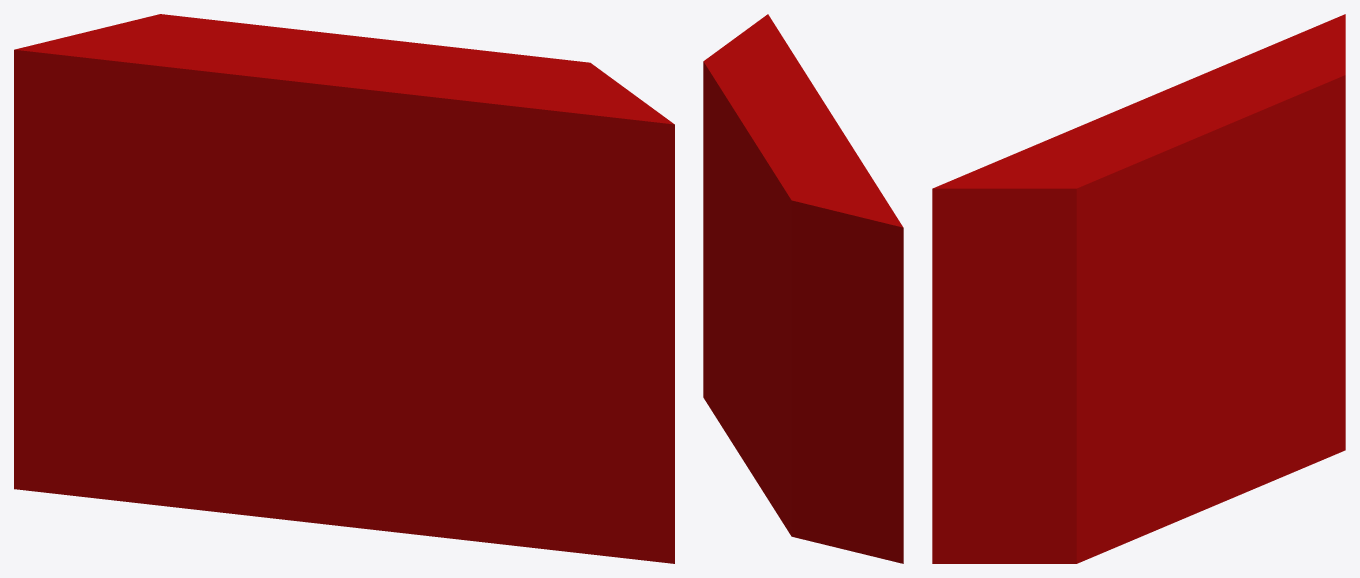
The model's file is UCX_tunnelAngleD.fbx.
The picture shows the model from 3 angles, left to right: view 1: azimuth 30°, elevation 25°; view 2: azimuth 150°, elevation 25°; view 3: azimuth 270°, elevation 25°; orthographic projection. The views are drawn at different scales.
Visible parts, largest first — view 1: UCX_tunnelAngleD; view 2: UCX_tunnelAngleD; view 3: UCX_tunnelAngleD.
Part boxes in pixels (bbox=[...]): UCX_tunnelAngleD: bbox=[14, 14, 674, 563]; UCX_tunnelAngleD: bbox=[703, 14, 903, 563]; UCX_tunnelAngleD: bbox=[932, 14, 1345, 563].
Bounding box in the file's own units: 3 × 3.01 × 3.
